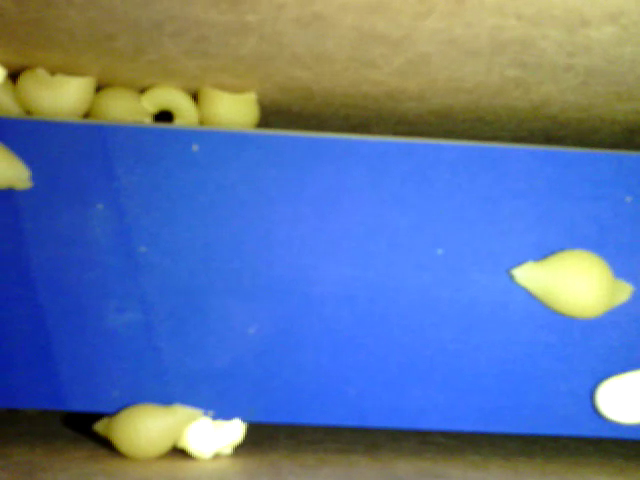elbow: (137, 83, 201, 125)
shell: (509, 246, 636, 318), (94, 400, 205, 459), (15, 68, 97, 118), (197, 80, 261, 129), (84, 83, 153, 123)
